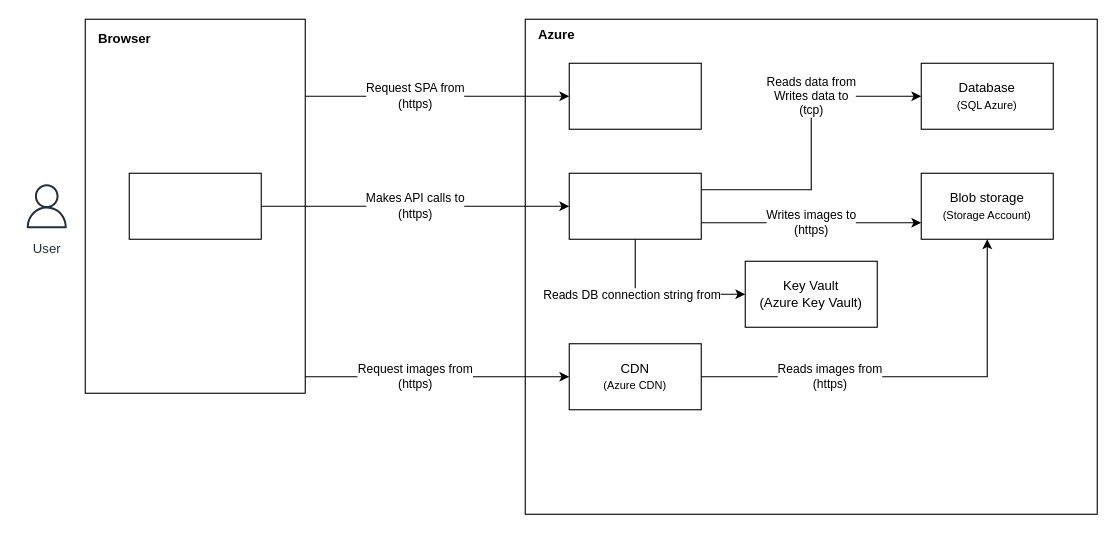
Image size: 1117x534. Some labels were removed from this diagram. The shapes that lost their labels are listed below. From the top down, each one's centre as x and y in pixels, then its label:
At pixel 634 95: "Static Web Server (App Service)".
At pixel 194 205: "SPA (PWA)".
At pixel 634 205: "REST API (App Service)".
